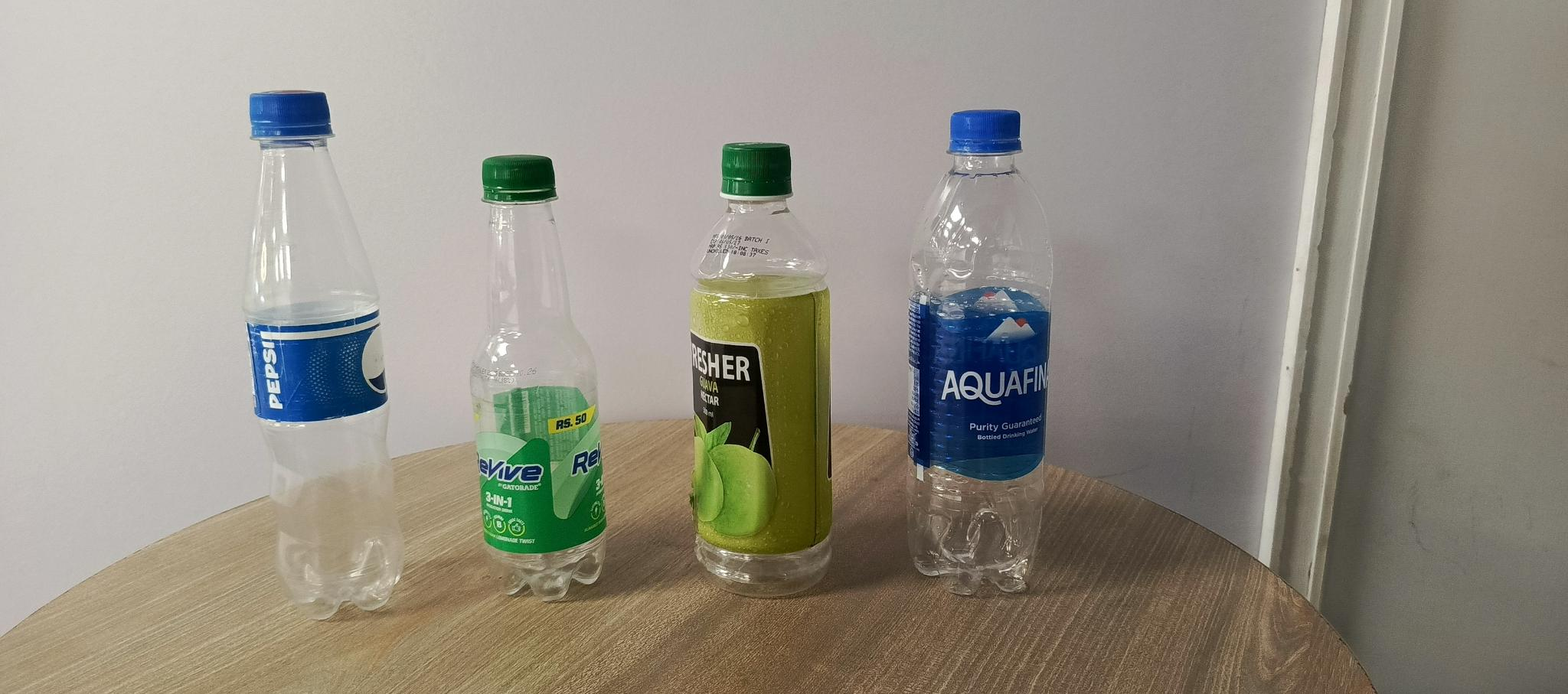Pepsi Bottle: (233, 71, 434, 635), (230, 73, 421, 625)
